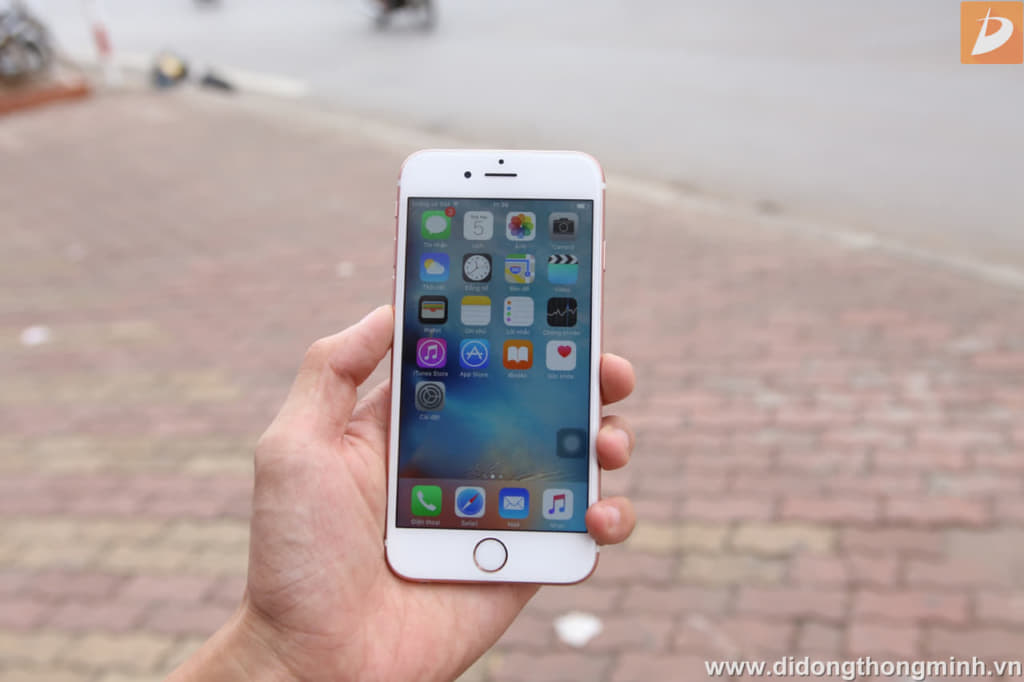iphone: (376, 134, 611, 589)
iphone7: (378, 139, 613, 594)
